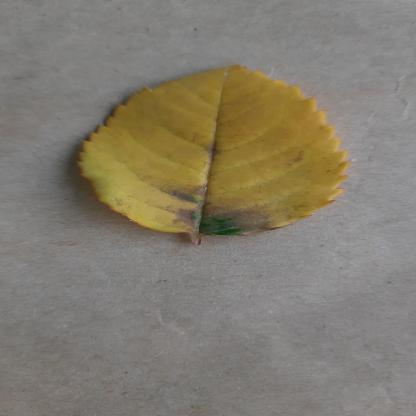black-spot: (74, 62, 362, 236)
